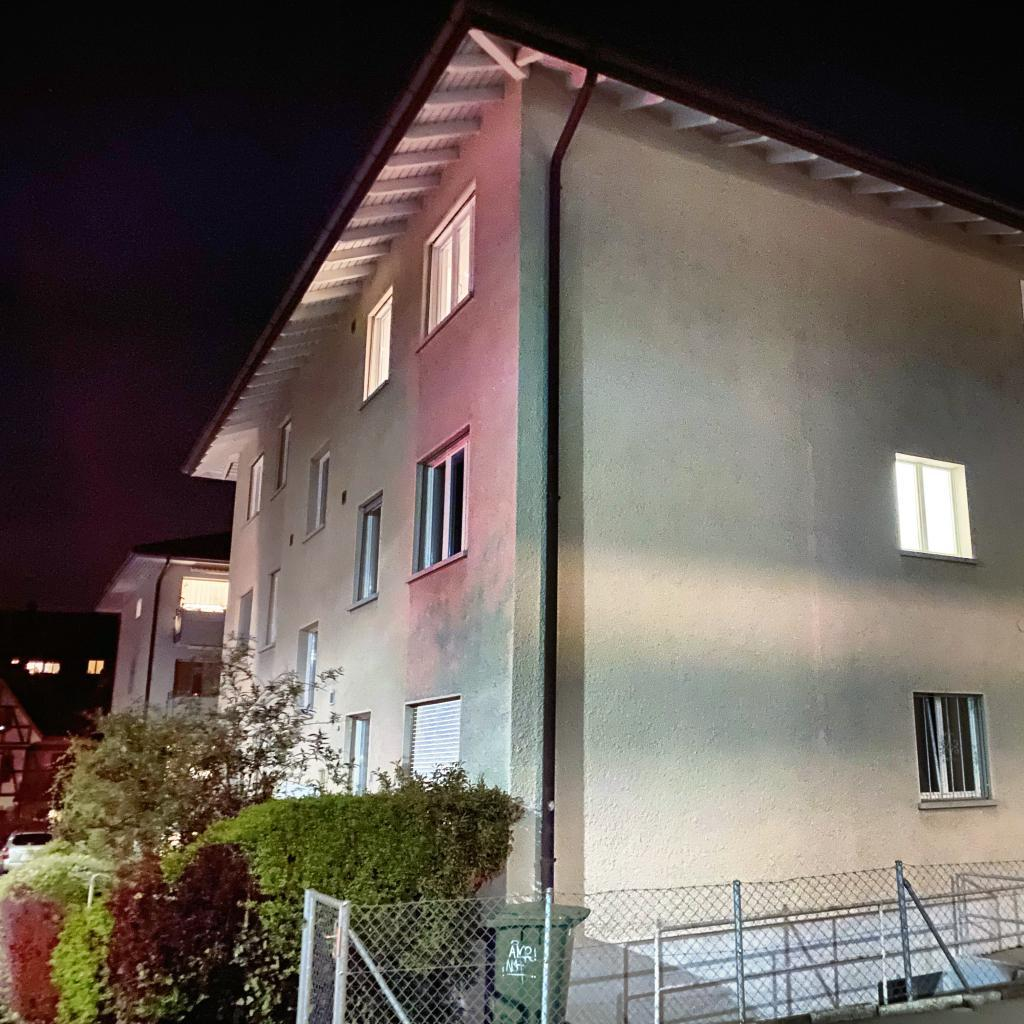car: (0, 828, 51, 874)
facade: (174, 0, 1024, 1024), (0, 607, 116, 843), (91, 527, 228, 716)
fence: (298, 859, 1024, 1024)
street: (822, 994, 1024, 1024)
vegetation: (0, 630, 527, 1024)
window: (894, 450, 974, 560), (914, 692, 982, 801), (427, 191, 476, 337), (423, 432, 470, 569), (410, 699, 460, 780), (366, 294, 393, 398), (357, 495, 381, 601), (180, 576, 230, 613), (173, 661, 220, 698), (348, 718, 370, 792), (265, 567, 281, 645), (304, 626, 318, 711), (315, 450, 329, 529), (249, 454, 263, 520), (277, 419, 290, 488), (237, 589, 253, 645), (26, 659, 61, 675), (86, 659, 105, 675), (135, 597, 142, 620)
